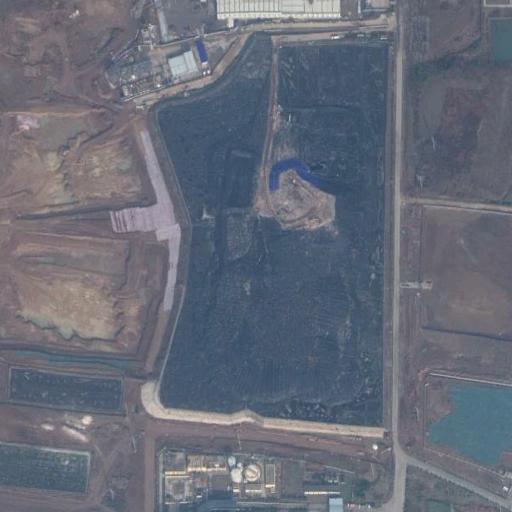lf: (145, 36, 394, 441)
